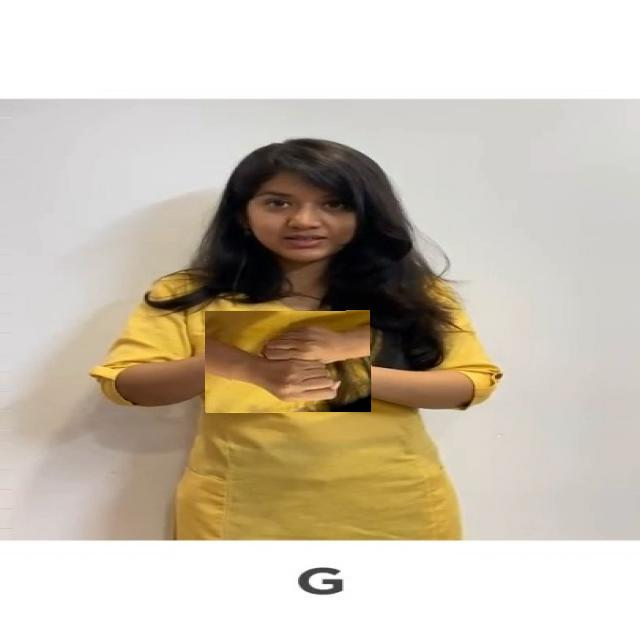G: (205, 310, 372, 412)
